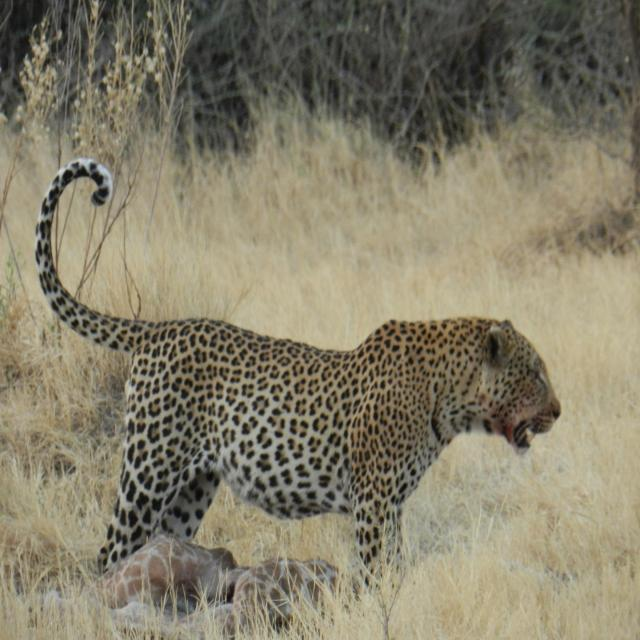Leopard: (24, 107, 554, 631)
